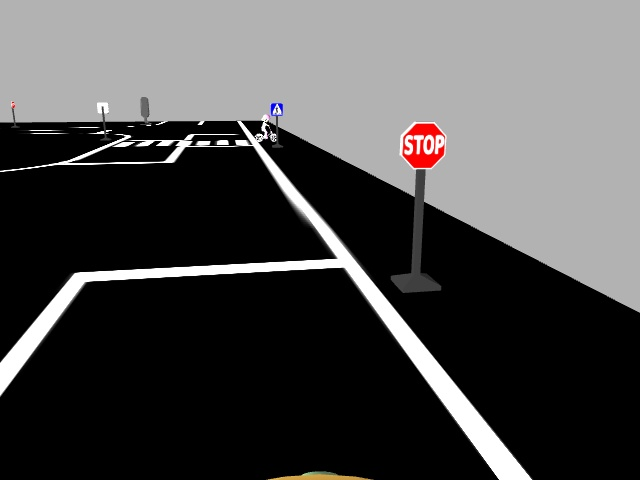Stop: (398, 119, 447, 171)
